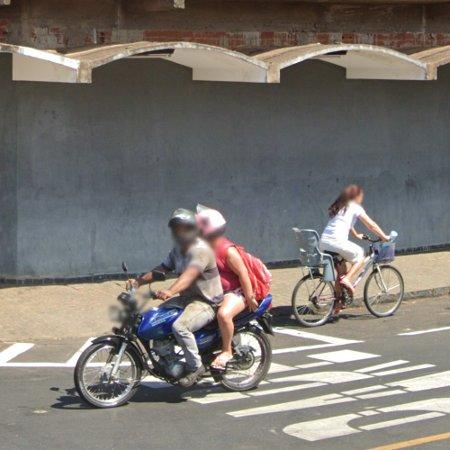motorcycles: (74, 291, 184, 409), (196, 296, 273, 392)
